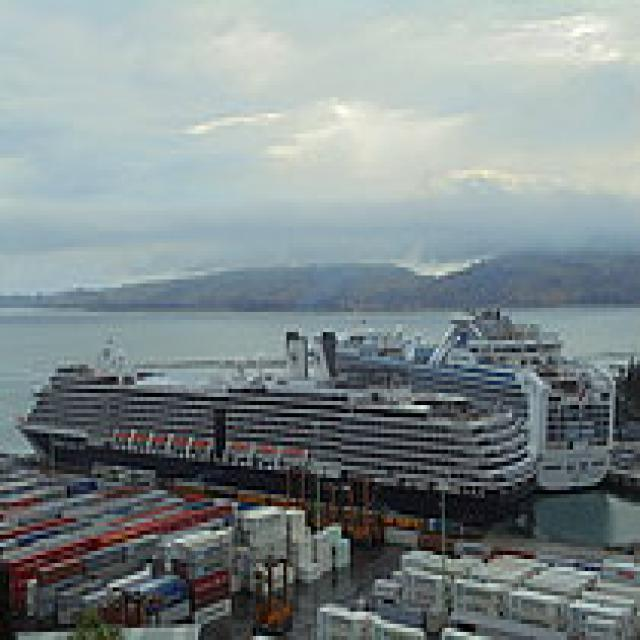Ship: (10, 326, 550, 536)
